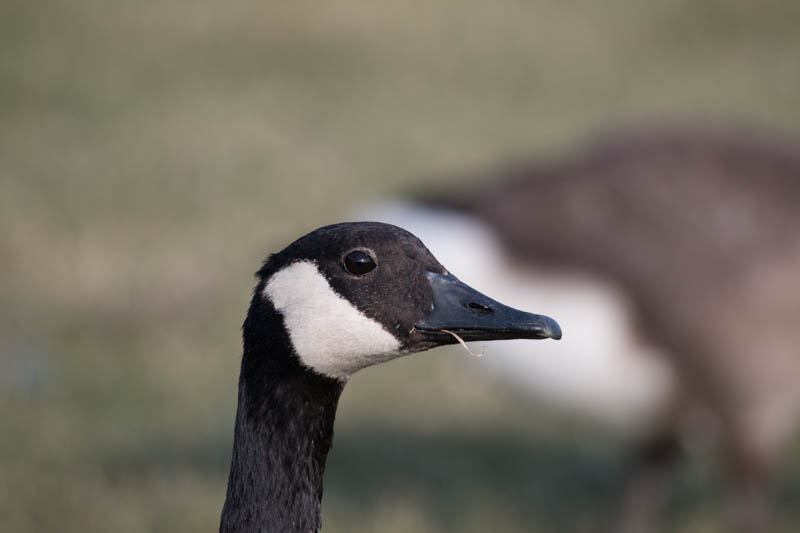goose-head: (243, 220, 564, 384)
